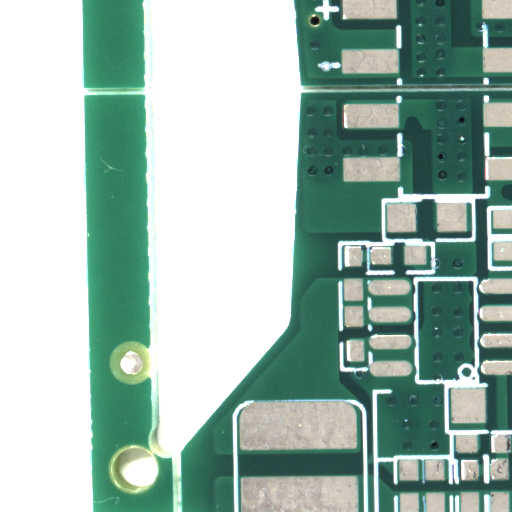Mouse_bite: (413, 123, 432, 139), (506, 193, 512, 212)
